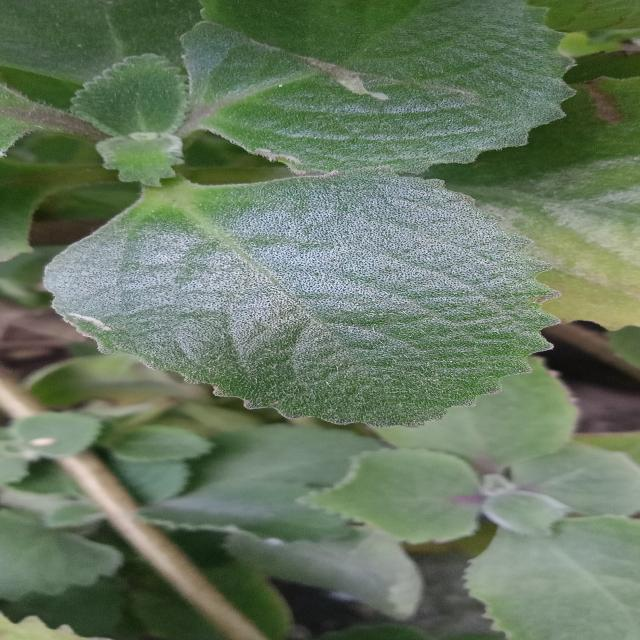Oregano: (25, 157, 606, 451)
